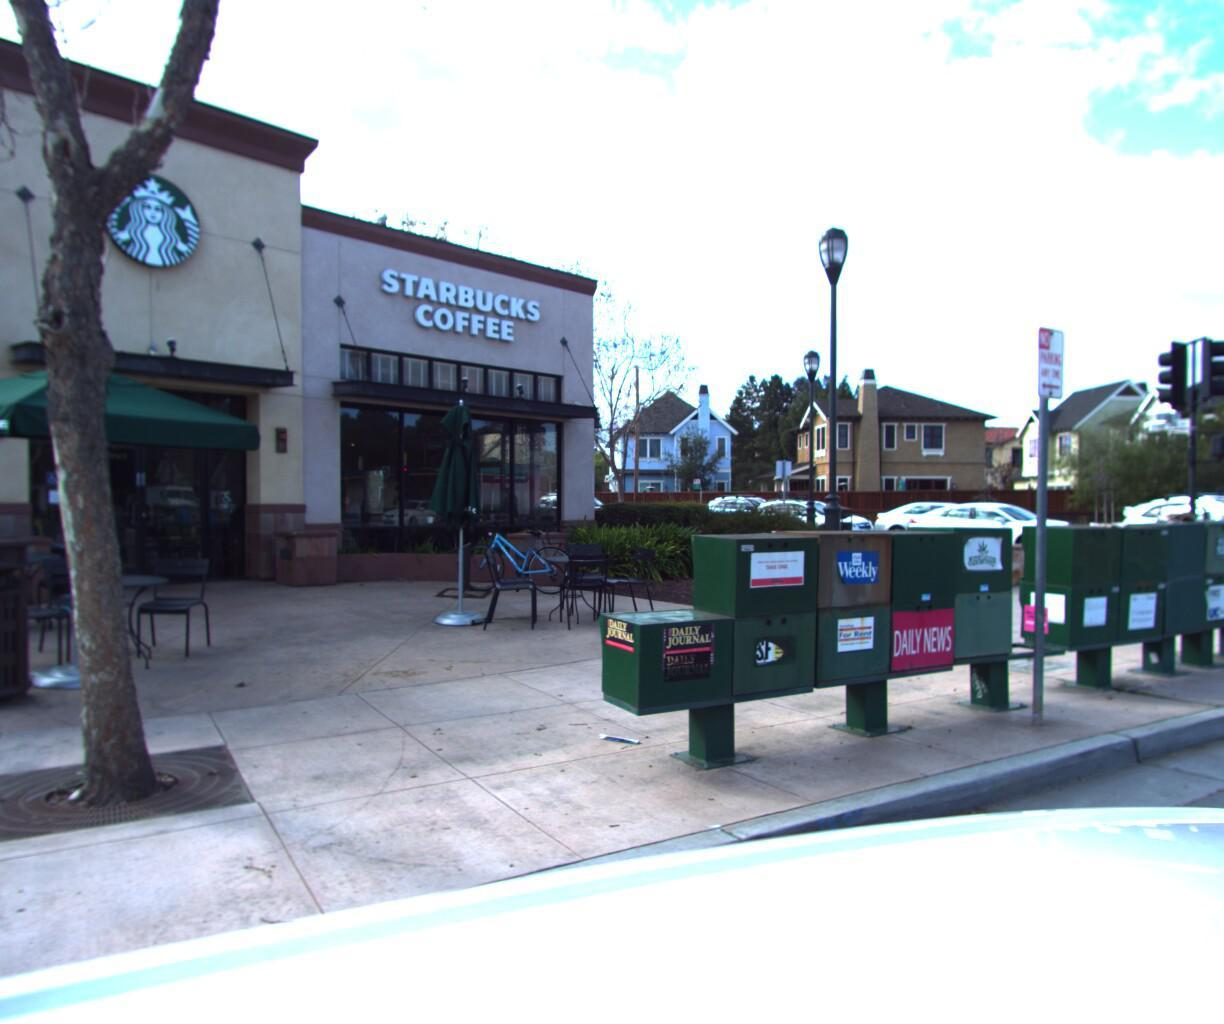car: (905, 496, 1102, 557), (1098, 484, 1224, 574), (1112, 480, 1224, 560), (743, 488, 886, 545), (873, 495, 1036, 545), (696, 490, 822, 536)
